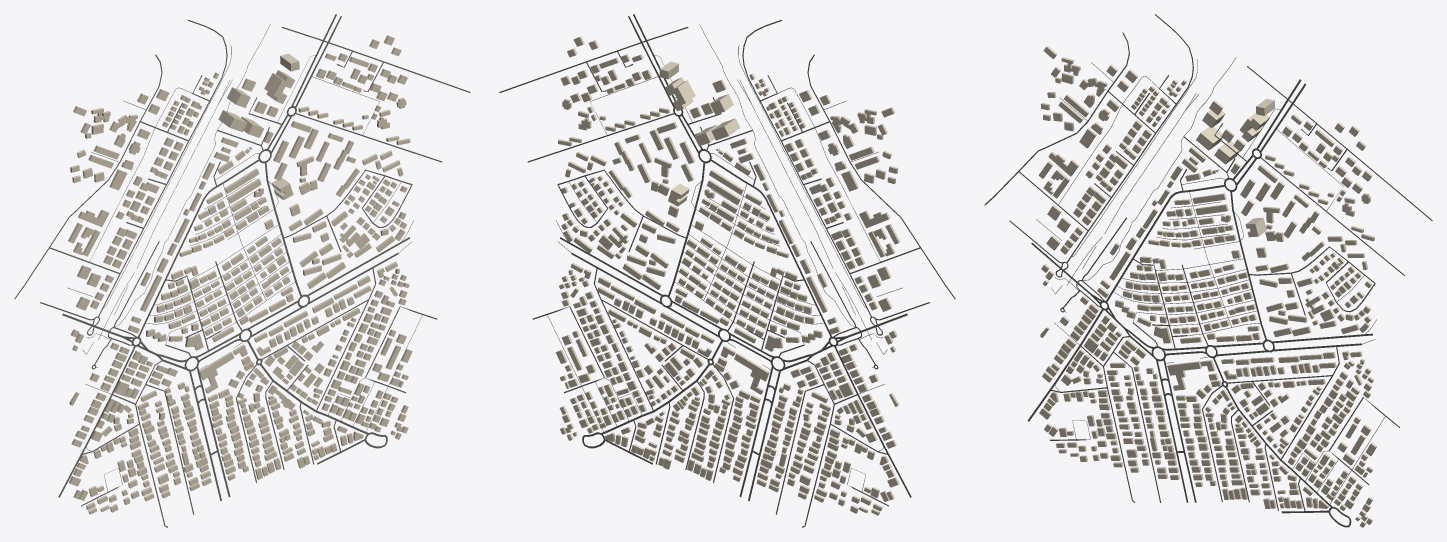
Rendered from historic-palestine-09_34_3507_3283.glb.
The picture shows the model from 3 angles, left to right: view 1: azimuth 30°, elevation 25°; view 2: azimuth 150°, elevation 25°; view 3: azimuth 330°, elevation 25°; orthographic projection.
Parts seen in each view (by area): view 1: Building_.727, Road חב"ד; view 2: Building_.727, Road חב"ד; view 3: Road חב"ד.
Part boxes in pixels (x1=…): Building_.727: x1=264, y1=70, x2=294, y2=103; Road חב"ד: x1=98, y1=20, x2=227, y2=316; Building_.727: x1=665, y1=77, x2=695, y2=111; Road חב"ד: x1=742, y1=20, x2=871, y2=316; Road חב"ד: x1=1066, y1=14, x2=1193, y2=262.
Size of the model in its own units: 1304 by 1374 by 57.2.
